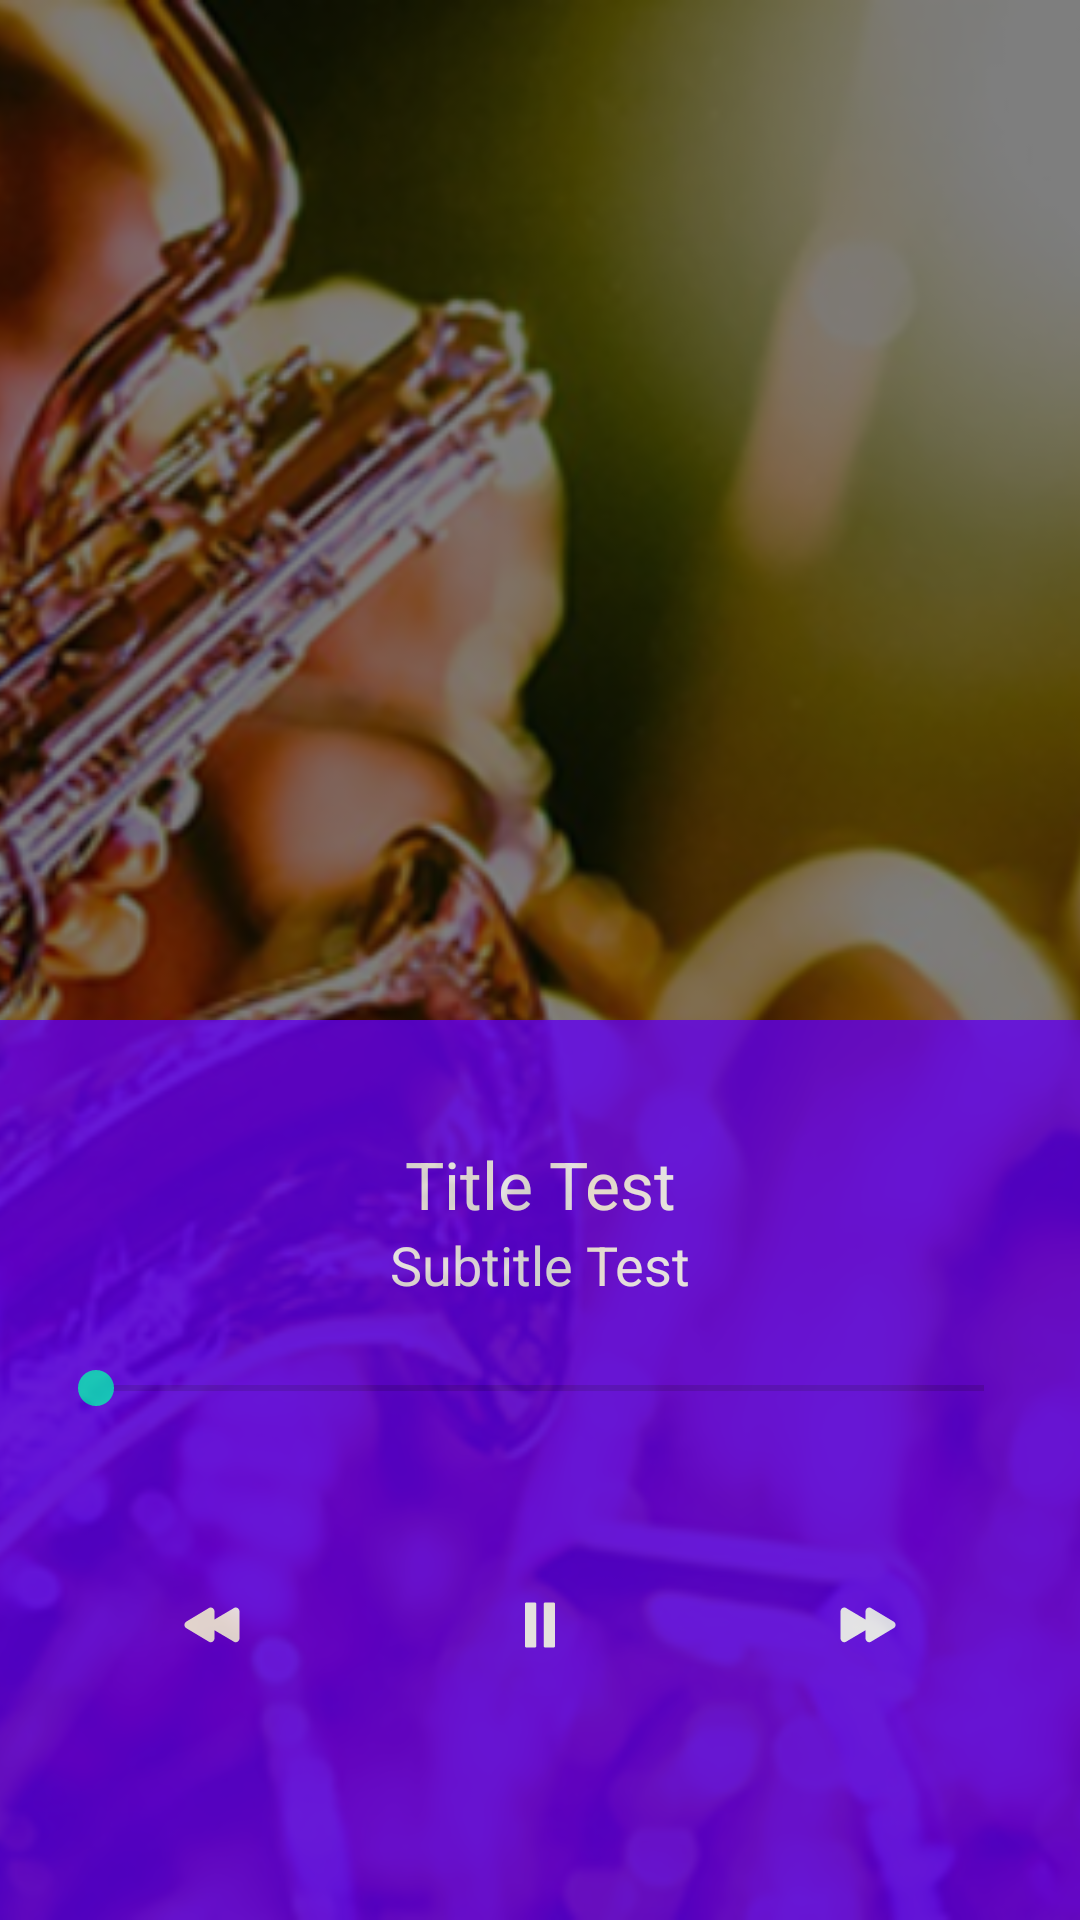

Screen size 1080px x 1920px. Icon name, then its box in pixels as (x1, y1, x2, y2):
next song: (840, 1607, 896, 1643)
pause: (525, 1602, 555, 1648)
